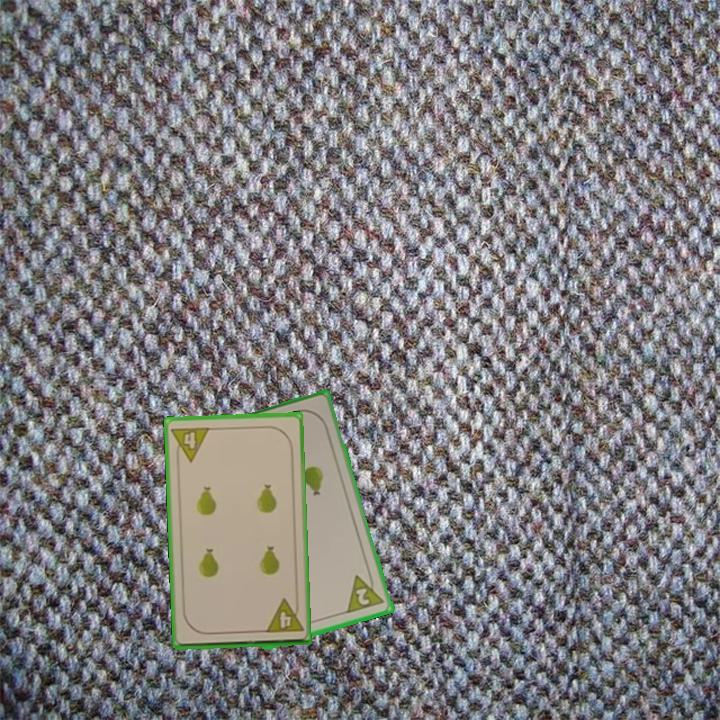2p: (344, 568, 388, 616)
4p: (168, 423, 212, 465), (262, 595, 306, 636)
